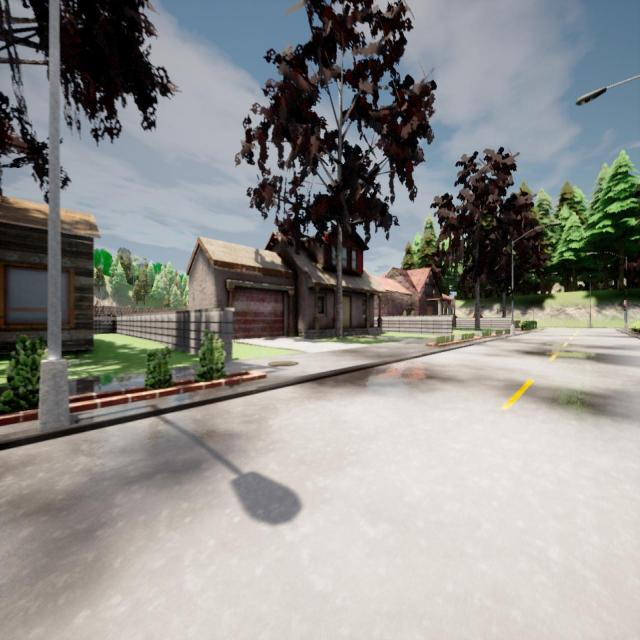traffic_light: (624, 302, 626, 311)
